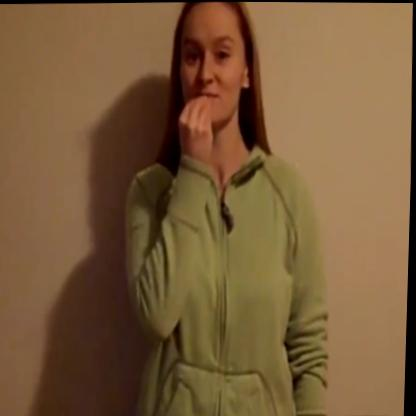Food: (113, 1, 311, 241)
